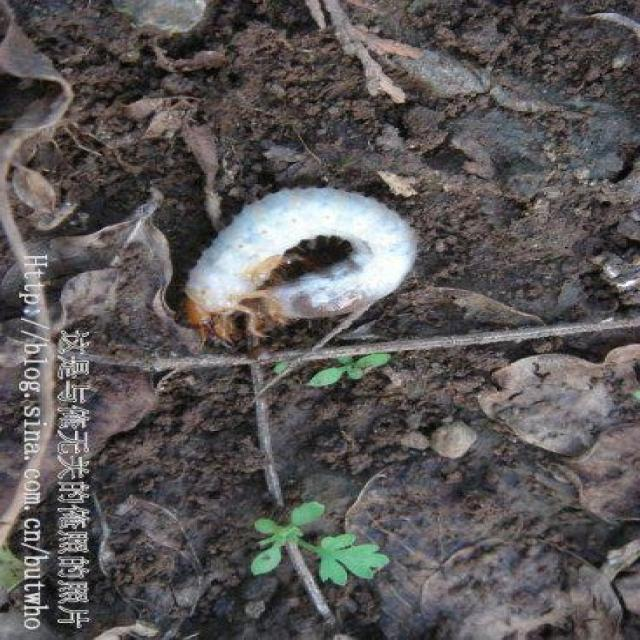grub: (176, 183, 447, 337)
